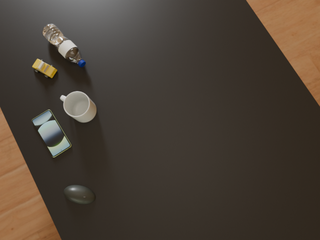bottle: (42, 24, 86, 67)
cup: (60, 92, 96, 122)
mouse: (64, 185, 95, 204)
phone: (32, 110, 71, 157)
toy_car: (32, 59, 57, 78)
